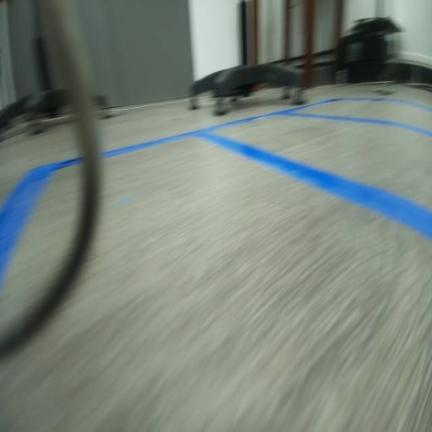place: (0, 129, 431, 430), (190, 108, 431, 245), (276, 95, 429, 133)
